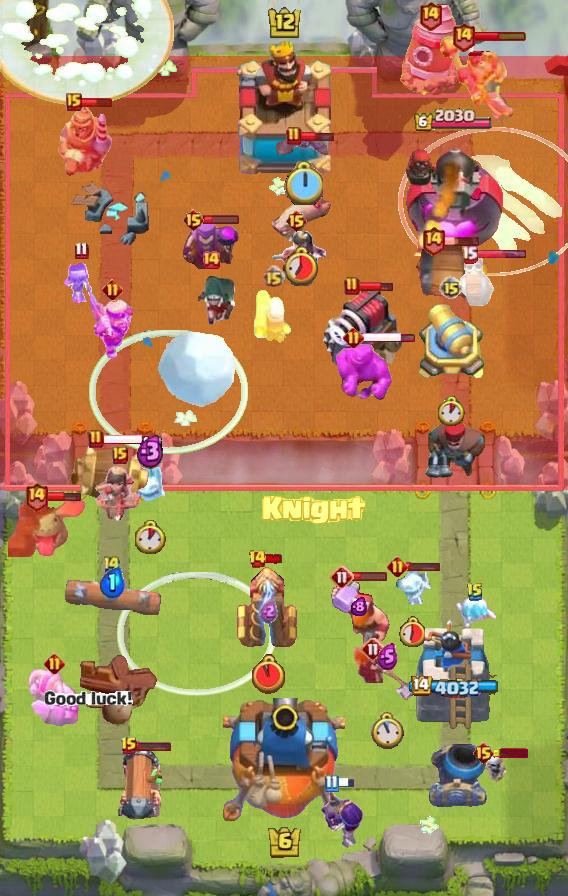bandit: (185, 274, 237, 328)
bar: (102, 433, 157, 446), (361, 331, 416, 344), (474, 30, 527, 42), (475, 249, 527, 260), (358, 280, 394, 293), (300, 130, 335, 143), (444, 235, 481, 247), (136, 740, 172, 752), (203, 214, 240, 225), (352, 571, 388, 582), (46, 491, 82, 502), (406, 561, 441, 572), (79, 97, 113, 108), (492, 748, 528, 758), (336, 777, 355, 789), (265, 553, 284, 565)
bar-level: (24, 481, 49, 512), (421, 225, 446, 256), (451, 21, 476, 52), (418, 0, 443, 31), (361, 637, 385, 661), (330, 565, 354, 589), (439, 276, 463, 300), (472, 741, 495, 765), (285, 209, 308, 233), (182, 208, 205, 232), (262, 265, 285, 288), (44, 653, 65, 674), (387, 556, 408, 577), (343, 327, 364, 348), (102, 279, 123, 300), (102, 554, 122, 575), (201, 250, 221, 270), (248, 549, 267, 569), (120, 736, 138, 756), (466, 582, 484, 602), (461, 245, 478, 264), (88, 429, 104, 449), (344, 276, 360, 296), (286, 126, 302, 146), (112, 446, 128, 464), (66, 93, 82, 111), (324, 774, 339, 793), (74, 241, 89, 260)
barbarian-barrel: (68, 443, 152, 505), (410, 244, 490, 304)
barbarian-evolution: (90, 292, 135, 359)
bat: (276, 137, 330, 159)
bomber-evolution: (319, 783, 363, 849)
cannoneer-tower: (403, 138, 504, 256)
clock: (284, 161, 323, 205), (282, 245, 321, 286), (252, 654, 285, 694), (371, 712, 404, 750), (135, 520, 166, 554), (398, 616, 425, 647), (438, 396, 465, 426)
elite-barbarian: (27, 669, 81, 727)
elixir: (136, 433, 165, 469), (99, 567, 125, 598), (377, 643, 398, 670), (259, 599, 278, 623), (351, 597, 367, 616)
elixir-golem-mid: (336, 342, 392, 402)
firecracker: (252, 287, 294, 345)
hog: (268, 192, 334, 246)
hunter: (422, 418, 488, 480)
ice-spirit: (388, 563, 434, 607), (128, 465, 172, 505), (454, 593, 496, 631)
king-tower: (228, 41, 340, 181), (223, 698, 345, 826)
lumberjack: (327, 581, 391, 651)
mortar: (427, 743, 487, 807)
mother-witch: (180, 217, 240, 273)
princess: (265, 231, 327, 283), (94, 463, 146, 521)
queen-tower: (409, 616, 497, 731)
skeleton: (482, 754, 508, 784)
skeleton-evolution: (63, 263, 99, 303)
tesla: (234, 564, 302, 650)
the-log: (61, 578, 163, 626)
tower-bar: (409, 676, 498, 699), (413, 108, 493, 133)
valkyrie: (352, 645, 422, 701)
wall-breaker: (454, 254, 506, 308)
